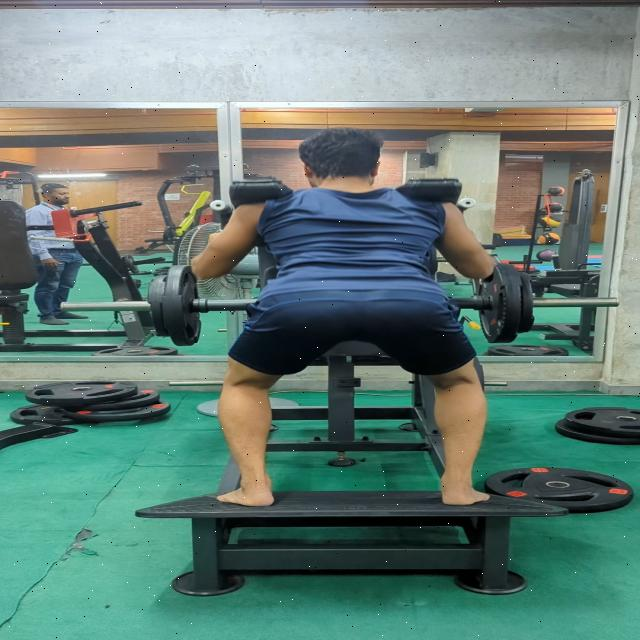Normal_SquatsWithBarbell: (180, 110, 525, 512)
